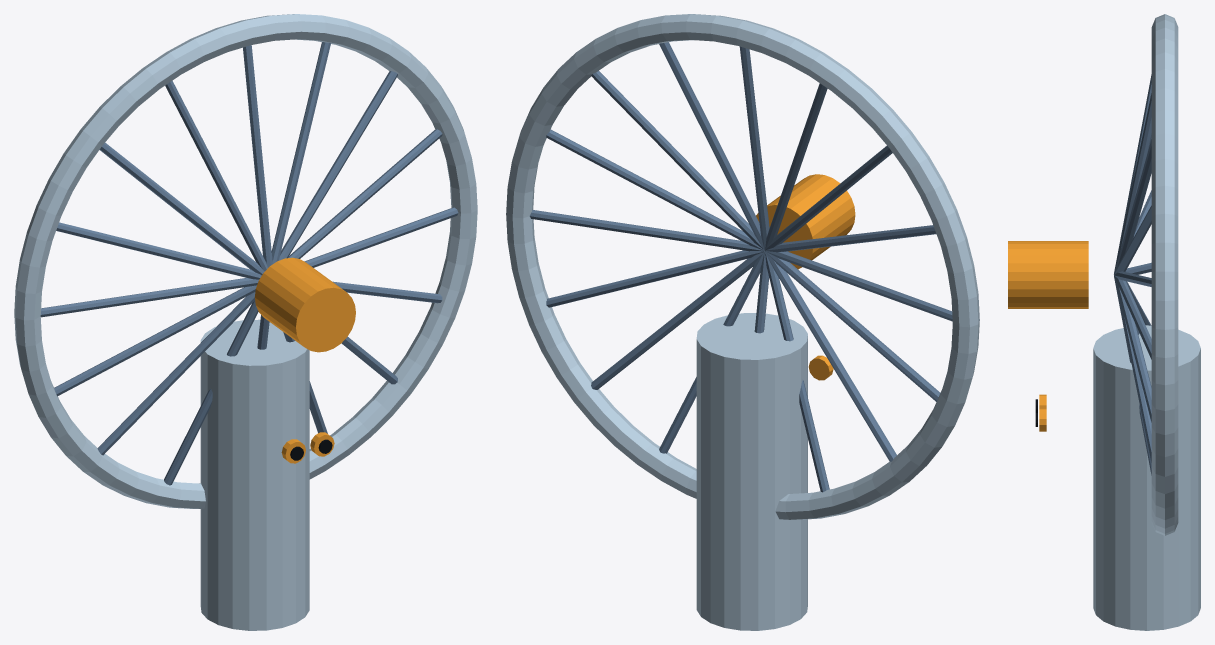
The model's file is 91_L89_SolarStormSurveyAntennaArray.fbx.
3 renders of one model, left to right at view 1: azimuth 30°, elevation 25°; view 2: azimuth 150°, elevation 25°; view 3: azimuth 270°, elevation 25°, orthographic. The views are drawn at different scales.
Visible parts, largest first — view 1: L87_SolarStormSurveyAntennaArray_Part_0000, L87_SolarStormSurveyAntennaArray_Part_0001, L87_SolarStormSurveyAntennaArray_Part_0002; view 2: L87_SolarStormSurveyAntennaArray_Part_0000, L87_SolarStormSurveyAntennaArray_Part_0001, L87_SolarStormSurveyAntennaArray_Part_0002; view 3: L87_SolarStormSurveyAntennaArray_Part_0000, L87_SolarStormSurveyAntennaArray_Part_0001, L87_SolarStormSurveyAntennaArray_Part_0002.
Boxes of the visible parts, x1,y1,x2,y2 form: L87_SolarStormSurveyAntennaArray_Part_0000: (14, 14, 477, 630); L87_SolarStormSurveyAntennaArray_Part_0001: (40, 42, 458, 485); L87_SolarStormSurveyAntennaArray_Part_0002: (254, 257, 355, 352); L87_SolarStormSurveyAntennaArray_Part_0000: (506, 14, 979, 630); L87_SolarStormSurveyAntennaArray_Part_0001: (529, 42, 952, 492); L87_SolarStormSurveyAntennaArray_Part_0002: (756, 174, 855, 269); L87_SolarStormSurveyAntennaArray_Part_0000: (1093, 14, 1200, 630); L87_SolarStormSurveyAntennaArray_Part_0001: (1114, 74, 1151, 475); L87_SolarStormSurveyAntennaArray_Part_0002: (1008, 241, 1088, 308).
Size of the model in its own units: 291 by 350 by 108.
